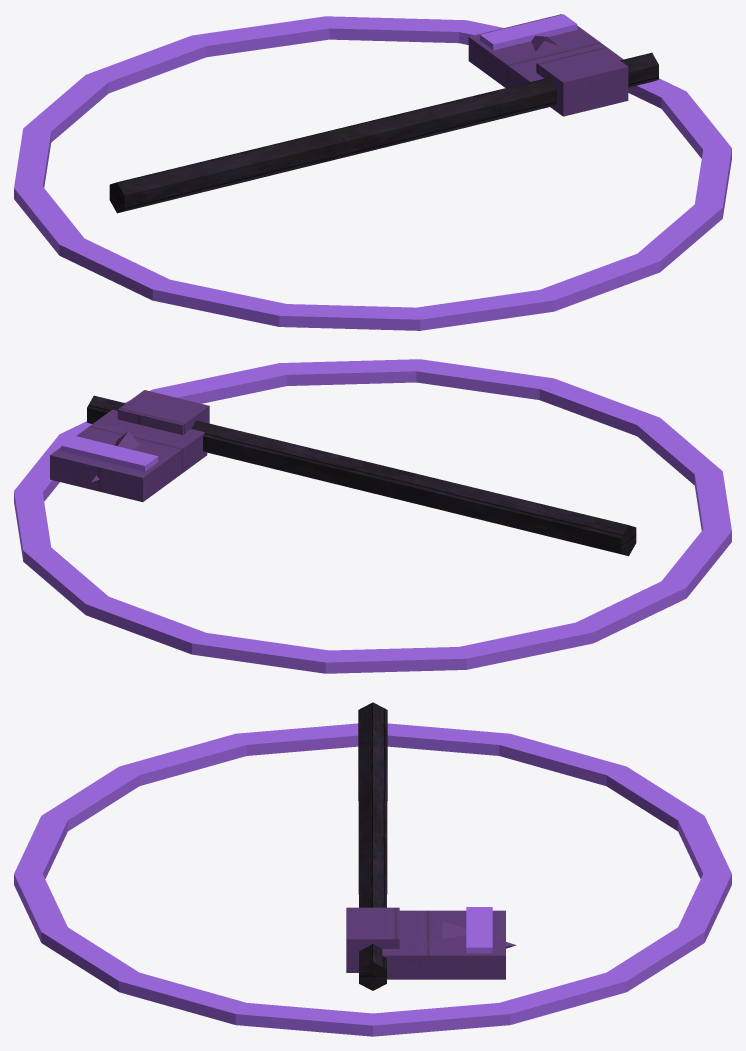
The model's file is loot_axe_g2.glb.
The picture shows the model from 3 angles, top to bottom: view 1: azimuth 30°, elevation 25°; view 2: azimuth 150°, elevation 25°; view 3: azimuth 270°, elevation 25°; orthographic projection.
Visible parts, largest first — view 1: loot_axe_g2; view 2: loot_axe_g2; view 3: loot_axe_g2.
Part boxes in pixels (x1=…): loot_axe_g2: x1=14, y1=14, x2=731, y2=330; loot_axe_g2: x1=14, y1=359, x2=731, y2=673; loot_axe_g2: x1=14, y1=702, x2=731, y2=1036.
Bounding box in the file's own units: 1.35 × 0.1349 × 1.35.
3 materials, 2 textured.
